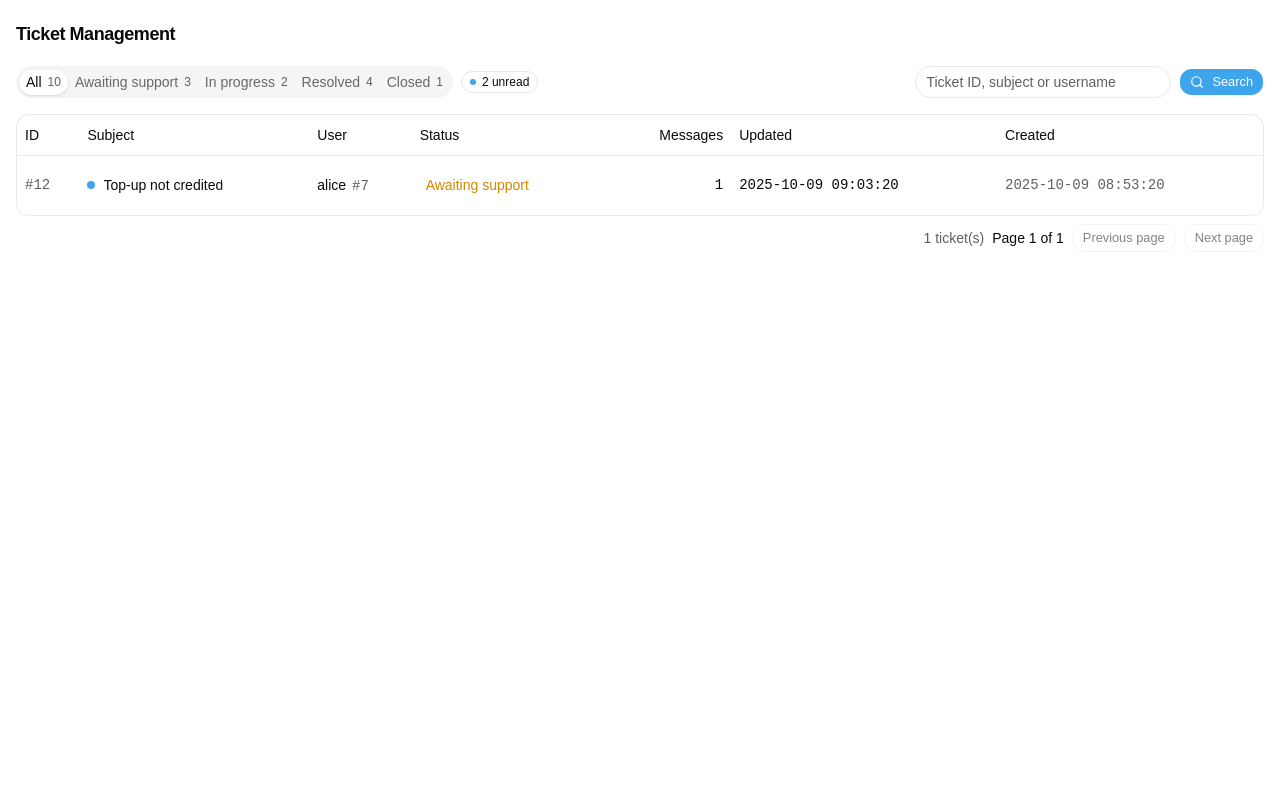
Test: ticket management page › opening an unread ticket shows its thread and clears the unread marker
This screenshot has width=1280, height=800.
Click the text "#12": (48, 185) [17,155,79,215]
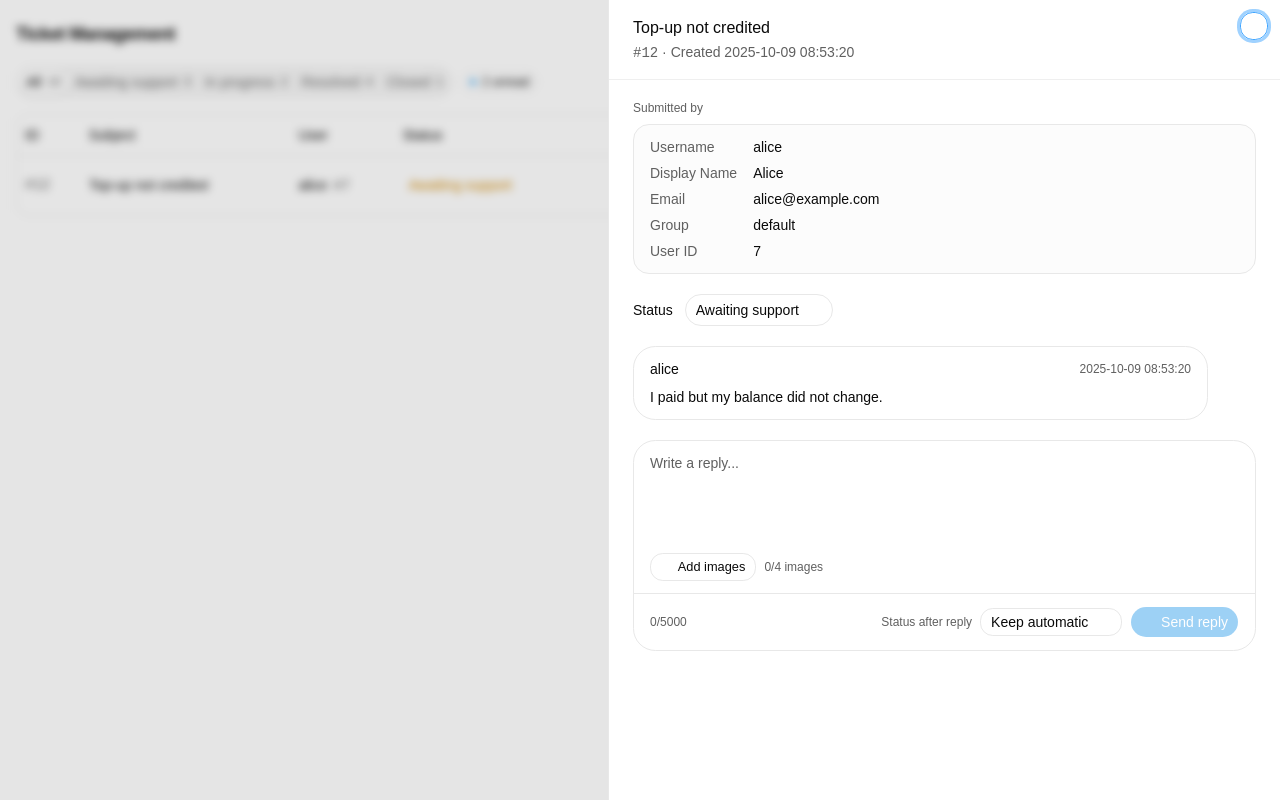
Result: the text "I paid but my balance did not change." is shown at [650,389,883,405]
